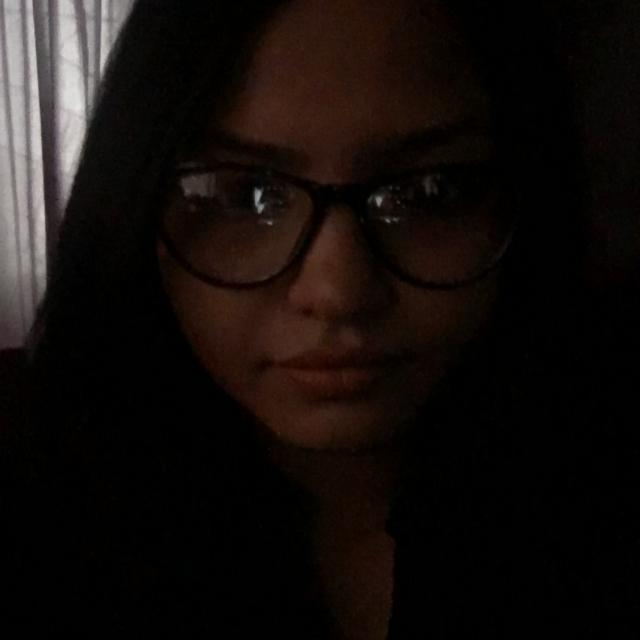Natural: (70, 21, 597, 505)
